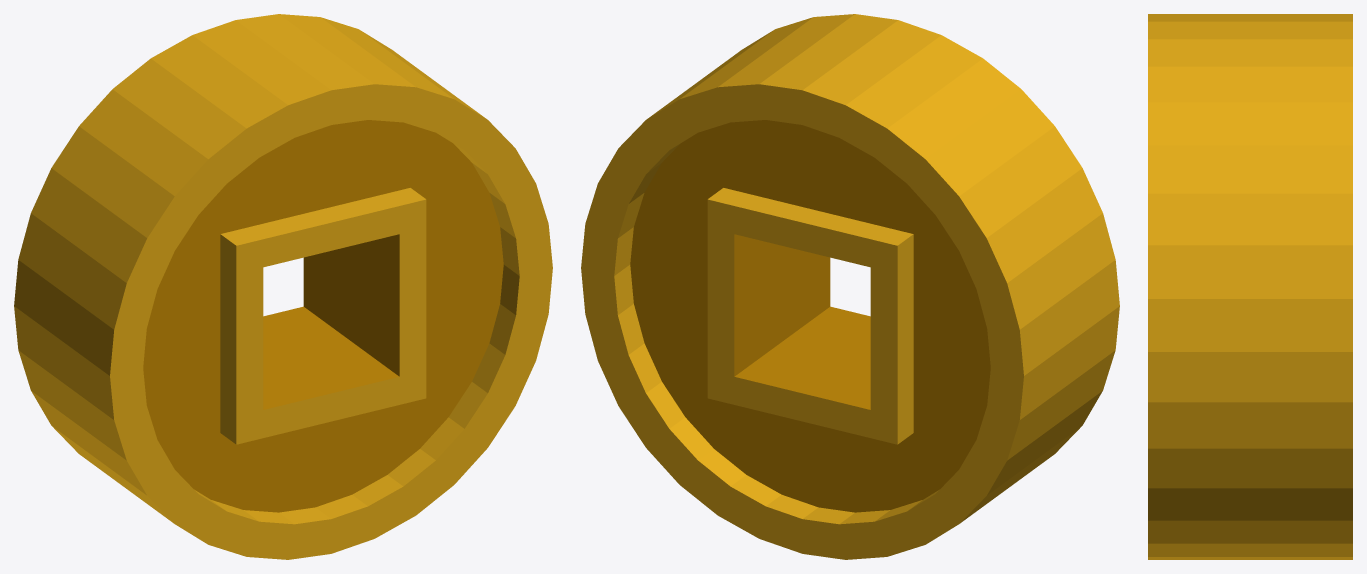
The model's file is coin.fbx.
The picture shows the model from 3 angles, left to right: view 1: azimuth 30°, elevation 25°; view 2: azimuth 150°, elevation 25°; view 3: azimuth 270°, elevation 25°; orthographic projection. The views are drawn at different scales.
Parts seen in each view (by area): view 1: Gold; view 2: Gold; view 3: Gold.
Boxes of the visible parts, left/top/right/bottom form: Gold: left=14, top=14, right=552, bottom=559; Gold: left=581, top=14, right=1119, bottom=559; Gold: left=1148, top=14, right=1352, bottom=559.
Size of the model in its own units: 80 by 80 by 30.
